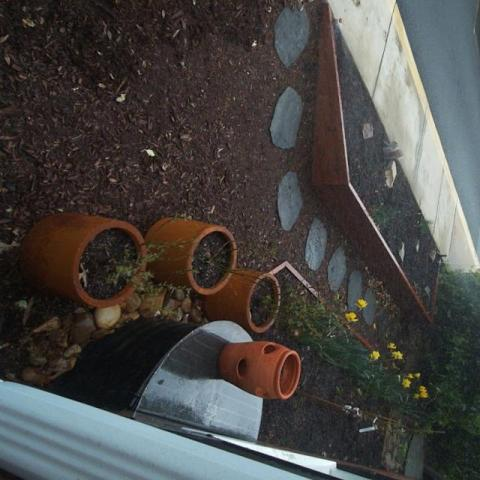small_animal: (383, 139, 405, 163)
